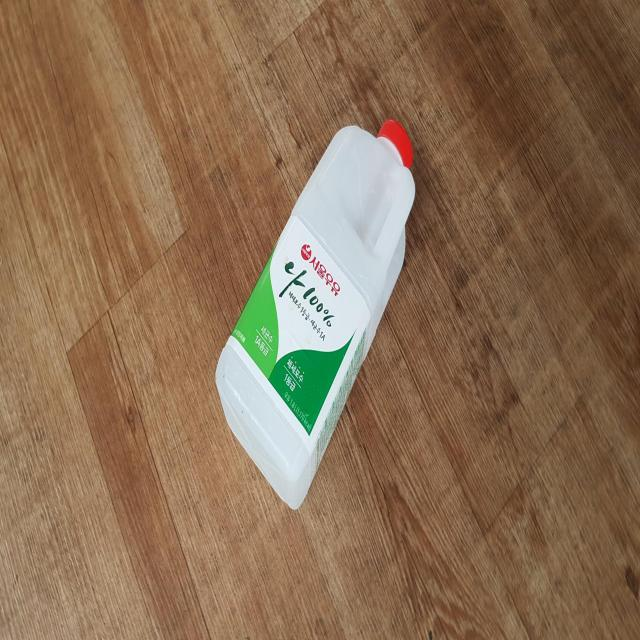plastic: (216, 119, 415, 508)
